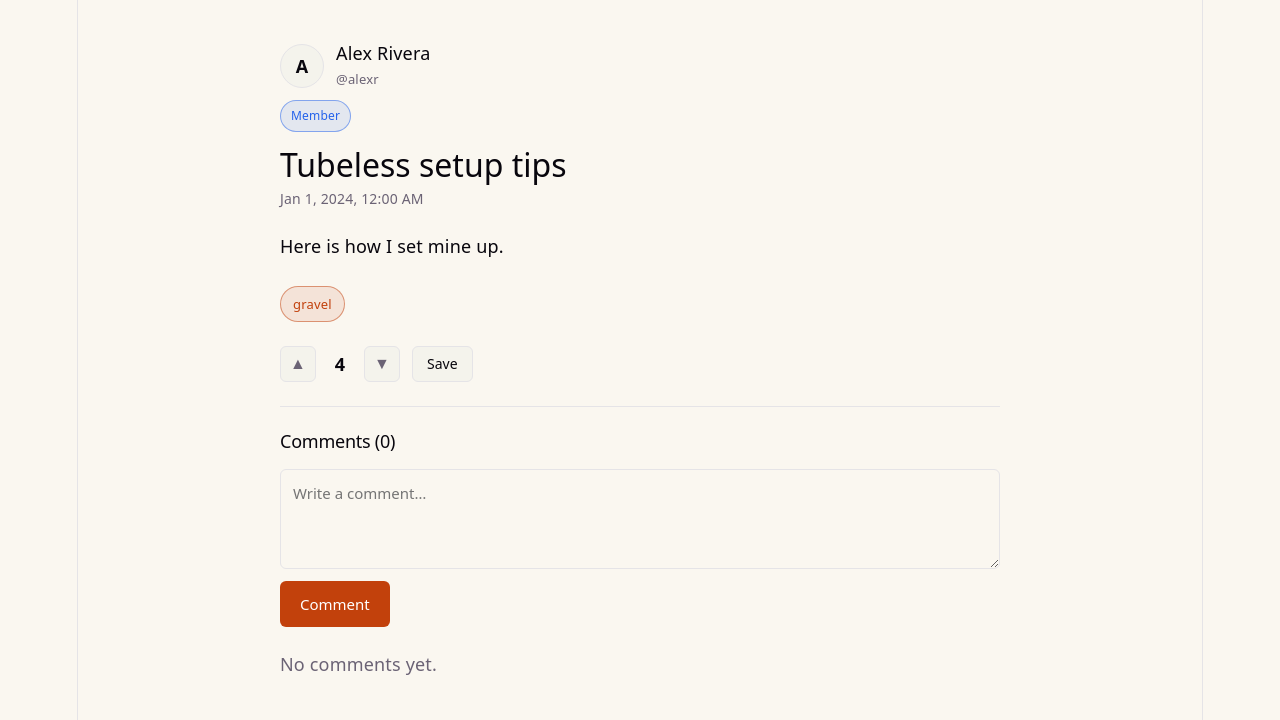
Test: PostView › casts an upvote and refreshes the post
Expected: the heading "Tubeless setup tips" is shown, x1=280 y1=143 x2=566 y2=186
Click the button named "Upvote".
click(298, 364)  # box x1=280 y1=346 x2=316 y2=382
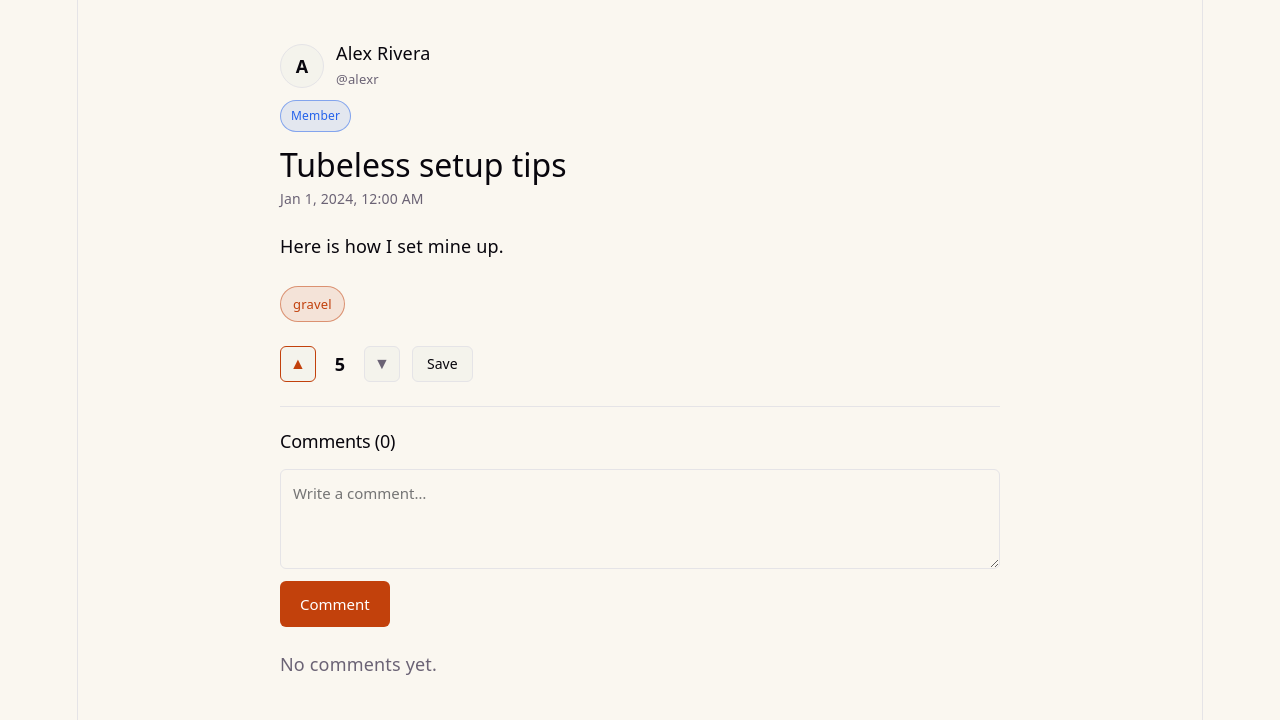
Expected: the text "5" is shown, x1=335 y1=352 x2=345 y2=376
